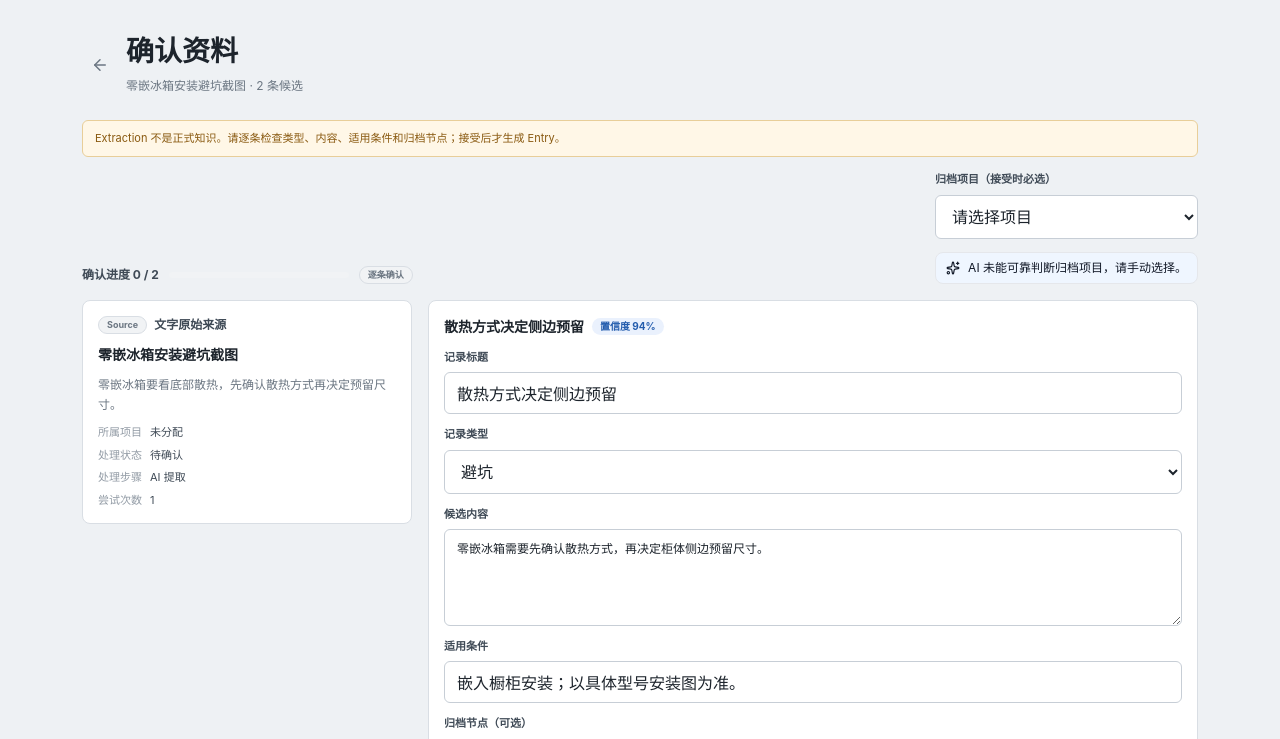
Test: SourceConfirmPage confirmation flow › hides the manual selection hint after the user picks a project
Expected: the text "AI 未能可靠判断归档项目，请手动选择。" is shown, [968,259,1187,277]
Select "新房装修" in the dropdown named "归档项目" at x=1067, y=217, box [935,195,1198,239]
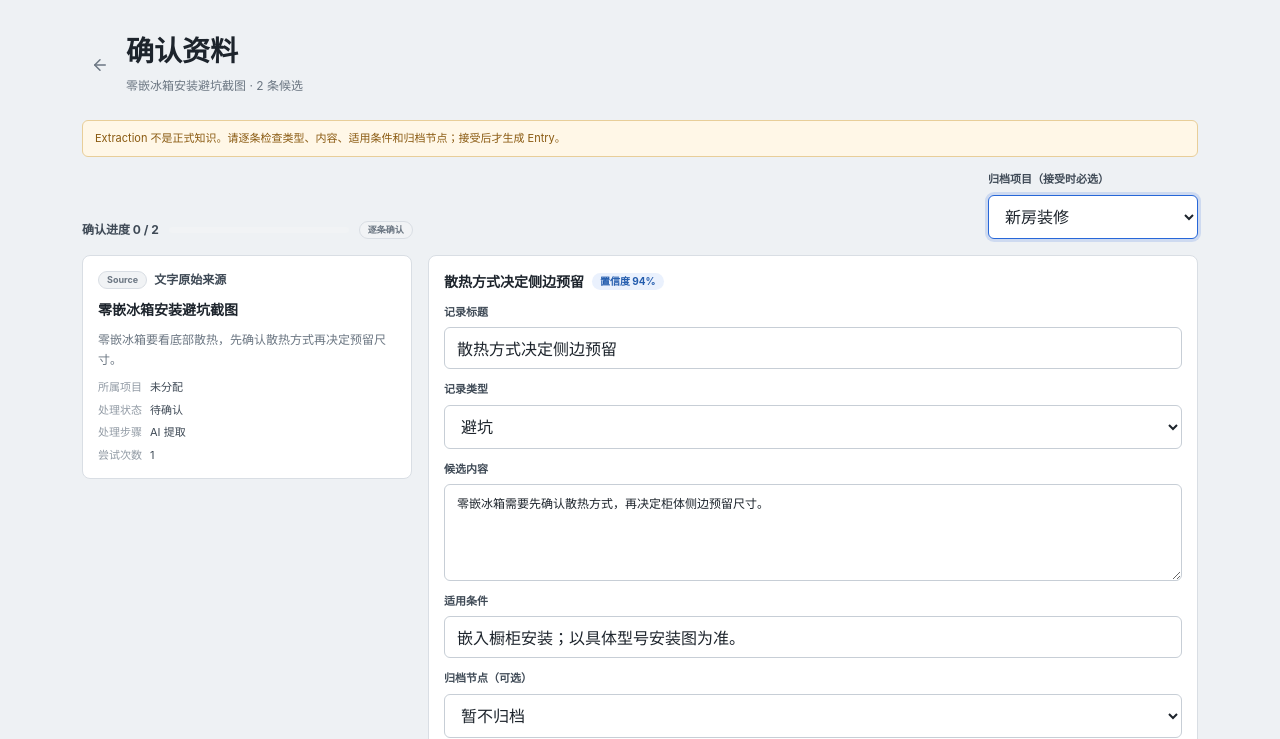
Now the text "AI 未能可靠判断归档项目，请手动选择" is gone
